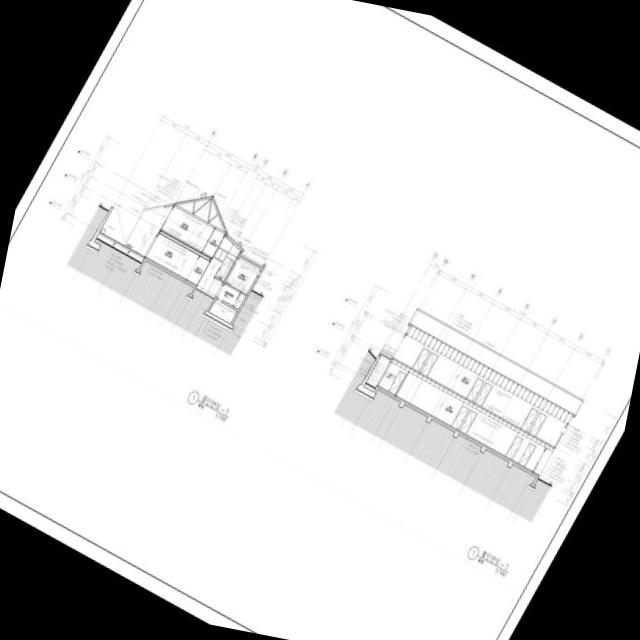background: (0, 0, 640, 640)
space_other: (393, 335, 567, 448), (395, 372, 546, 473), (196, 236, 241, 299), (161, 206, 214, 253), (145, 234, 199, 280), (176, 199, 224, 232), (377, 362, 408, 396), (186, 256, 209, 286), (209, 300, 237, 324), (202, 229, 225, 258), (217, 284, 240, 306), (233, 292, 246, 309)
space_toilet: (225, 257, 261, 295)
